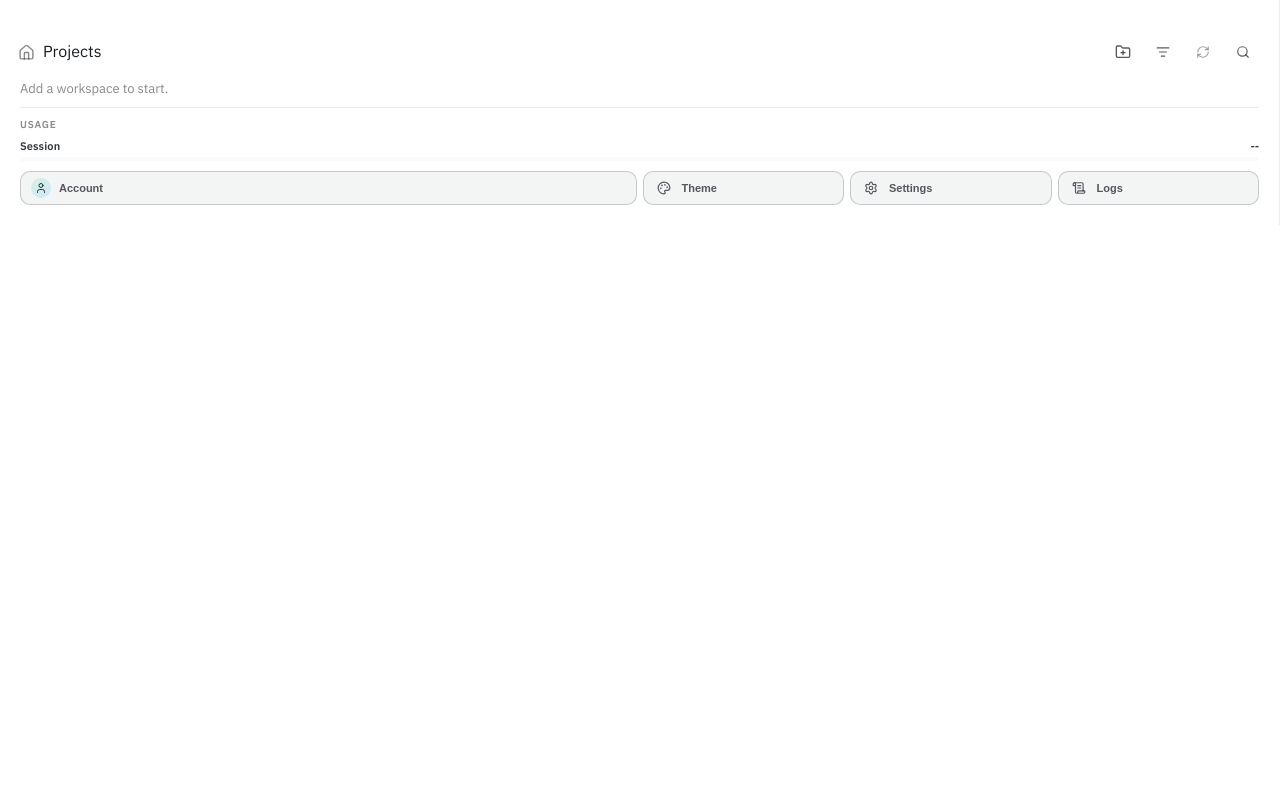
it: Sidebar › opens the account menu from the bottom rail
This screenshot has width=1280, height=800.
Click the button "Account" at (81, 188), box top-left (20, 171), bottom-right (636, 205)
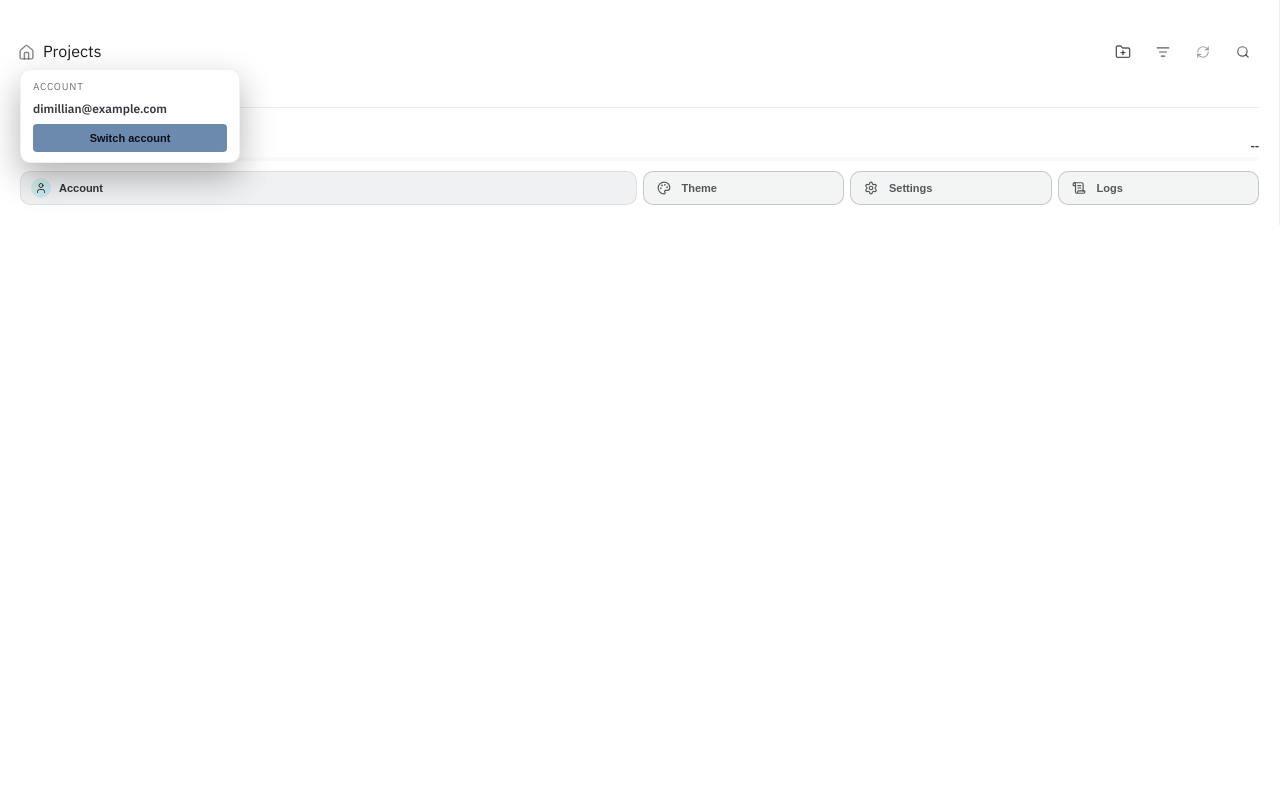
expect the text "dimillian@example.com" is shown: met, box top-left (33, 101), bottom-right (167, 116)
expect the button "Switch account" is shown: met, box top-left (33, 124), bottom-right (227, 152)
